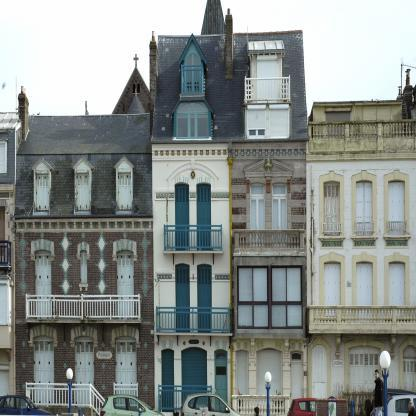Balcony: (25, 293, 141, 323), (308, 306, 416, 333), (308, 121, 416, 148), (156, 306, 230, 336), (233, 230, 307, 257), (164, 224, 222, 253), (245, 75, 290, 102)
Blind: (388, 183, 405, 236), (324, 264, 341, 316), (356, 264, 373, 316), (389, 263, 405, 317), (356, 183, 372, 236), (257, 61, 277, 103), (324, 184, 340, 236), (325, 113, 351, 139), (270, 110, 288, 137), (403, 358, 416, 393), (119, 173, 131, 209), (37, 175, 49, 211), (77, 174, 89, 210), (80, 252, 87, 283)
Building Outline: (13, 8, 416, 416)
Cornice: (167, 162, 219, 183), (243, 159, 294, 177), (31, 156, 54, 173), (72, 155, 95, 172), (113, 155, 137, 171), (32, 324, 54, 338), (114, 325, 136, 339), (74, 325, 94, 338), (256, 340, 282, 350), (116, 238, 134, 252), (34, 238, 51, 252), (161, 339, 174, 350), (215, 340, 227, 350), (291, 343, 302, 351), (237, 342, 248, 350), (80, 242, 87, 251)
Deco: (386, 241, 408, 247), (321, 241, 343, 247), (354, 241, 376, 247)
Door: (349, 349, 380, 408), (256, 347, 283, 406), (181, 347, 207, 406), (116, 340, 137, 407), (34, 339, 54, 407), (76, 340, 94, 408), (117, 253, 134, 320), (311, 344, 327, 412), (35, 253, 51, 319), (197, 267, 212, 333), (175, 267, 190, 333), (175, 185, 189, 251), (197, 185, 211, 251), (324, 264, 341, 316), (356, 264, 373, 316), (389, 263, 405, 317), (272, 196, 287, 253), (250, 196, 265, 253), (257, 61, 277, 103), (161, 348, 174, 412), (236, 349, 249, 412), (215, 362, 228, 415), (291, 364, 304, 413)
Facade: (15, 143, 416, 415)
Floor: (152, 149, 306, 259), (15, 224, 154, 325), (154, 259, 308, 339), (306, 159, 416, 253), (308, 253, 416, 333)
Floor Slab: (152, 143, 306, 149), (154, 333, 308, 339), (154, 253, 306, 259), (14, 218, 153, 224), (15, 320, 154, 326), (306, 154, 416, 160), (306, 247, 416, 253), (308, 328, 416, 334)
Ground Floor: (15, 326, 154, 416), (154, 339, 308, 416), (308, 334, 416, 416)
Molding: (15, 218, 153, 233), (232, 149, 306, 157), (152, 149, 228, 156), (156, 193, 230, 199), (157, 275, 230, 280)
Roof: (152, 32, 310, 140), (16, 114, 154, 154)
Sill: (318, 235, 346, 242), (351, 235, 379, 242), (383, 235, 411, 241)
Top Floor: (14, 153, 153, 224), (313, 102, 402, 160), (244, 54, 292, 149), (173, 39, 211, 149)
Window: (271, 266, 303, 330), (237, 266, 269, 330), (388, 183, 405, 236), (177, 112, 209, 139), (356, 183, 372, 236), (324, 184, 340, 236), (325, 113, 351, 139), (186, 53, 200, 93), (270, 110, 288, 137), (248, 110, 266, 136), (403, 358, 416, 393), (119, 173, 131, 209), (37, 175, 49, 211), (77, 174, 89, 210), (248, 110, 266, 130), (177, 103, 208, 112), (80, 252, 87, 283), (214, 349, 228, 362), (290, 350, 303, 363)
dont: (365, 350, 416, 416), (180, 376, 243, 416), (287, 388, 347, 416), (0, 385, 54, 416), (100, 393, 165, 416), (61, 368, 81, 416), (264, 371, 272, 416), (350, 400, 355, 416), (254, 406, 260, 416)
